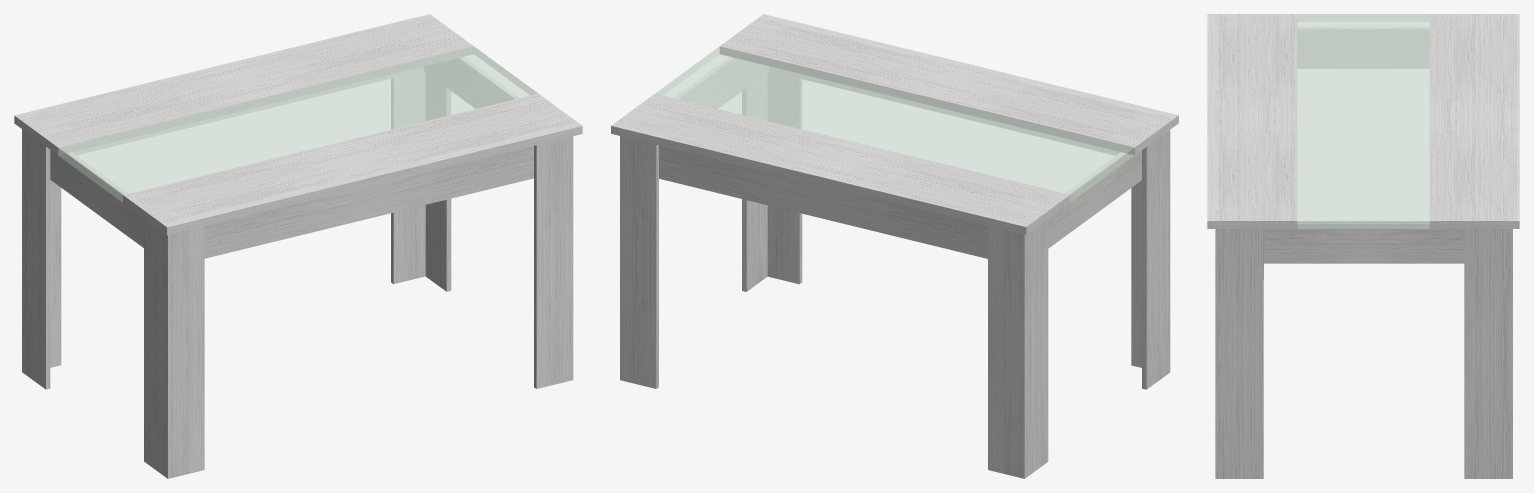
Rendered from Table 4.FBX.
The picture shows the model from 3 angles, left to right: view 1: azimuth 30°, elevation 25°; view 2: azimuth 150°, elevation 25°; view 3: azimuth 270°, elevation 25°; orthographic projection. The views are drawn at different scales.
Visible parts, largest first — view 1: Table 4; view 2: Table 4; view 3: Table 4.
Boxes of the visible parts, x1=… form: Table 4: x1=14, y1=14, x2=582, y2=478; Table 4: x1=611, y1=14, x2=1178, y2=478; Table 4: x1=1207, y1=14, x2=1519, y2=478.
Size of the model in its own units: 132 by 77.74 by 84.3.
2 materials, 1 textured.
